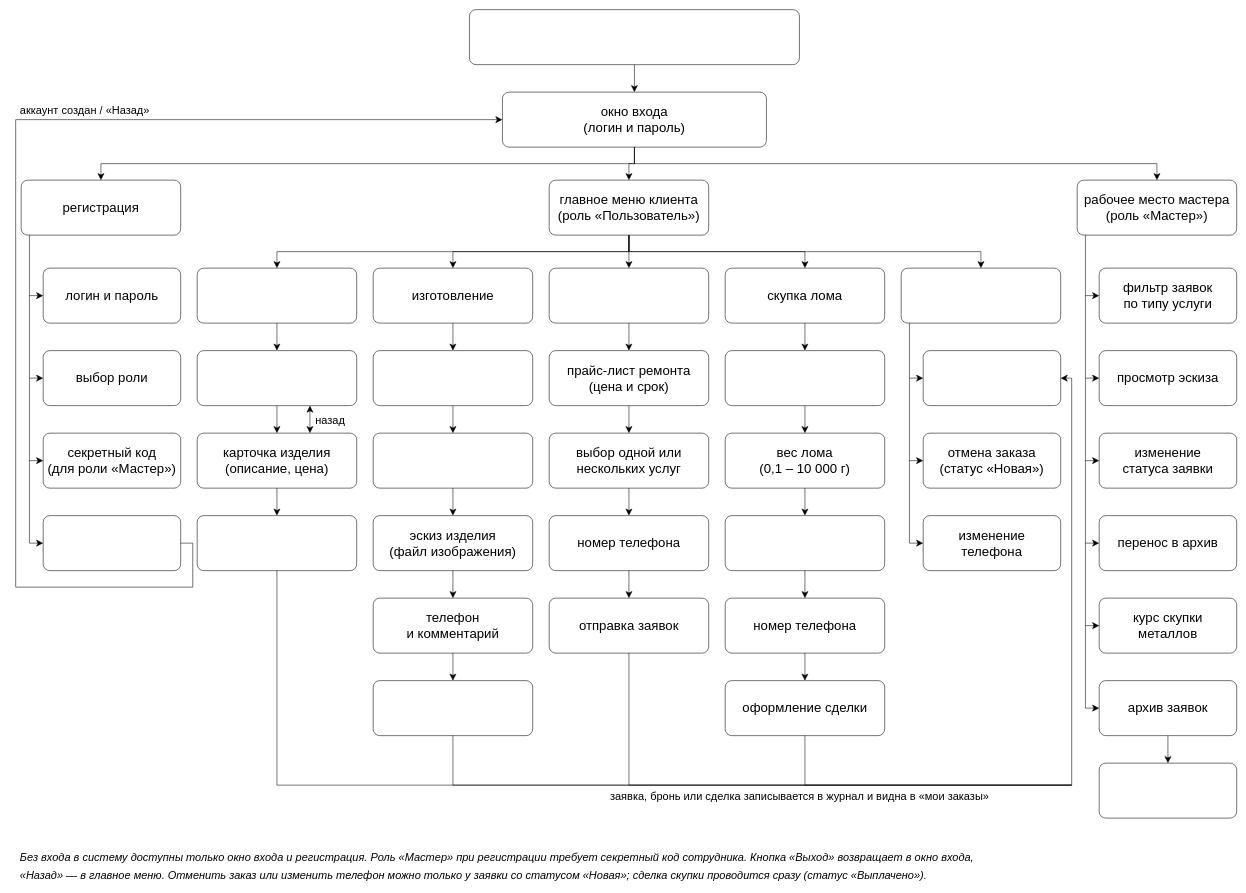
This 1246x893 diagram has some shape labels left out. Each missing label, with the centre of its shape:
"бронирование (ввод телефона)" belongs at point (277, 543).
"восстановление из архива" belongs at point (1168, 790).
"запуск приложения (создание / обновление базы workshop.db)" belongs at point (634, 37).
"каталог изделий" belongs at point (277, 295).
"металл и камень (списки из БД)" belongs at point (453, 460).
"металл и курс скупки за грамм" belongs at point (805, 378).
"мои заказы" belongs at point (981, 295).
"отправка заявки" belongs at point (453, 708).
"расчёт выплаты" belongs at point (805, 543).
"ремонт" belongs at point (629, 295).
"сетка из 8 изделий (фото и цена)" belongs at point (277, 378).
"сохранение аккаунта" belongs at point (112, 543).
"таблица заказов со статусами" belongs at point (992, 378).
"тип изделия (или «Другое...»)" belongs at point (453, 378).
